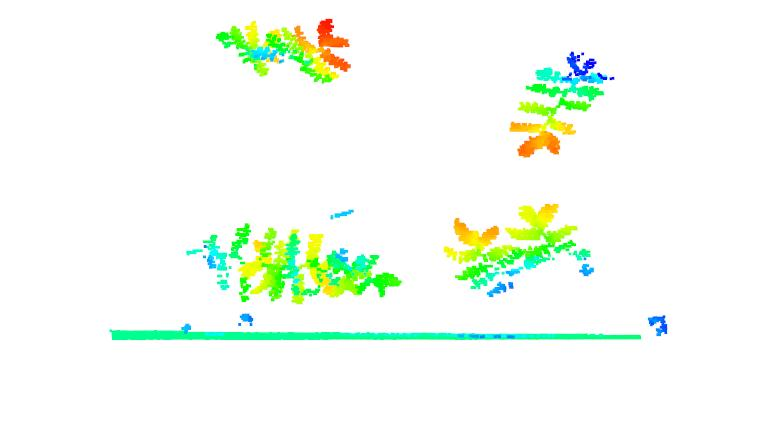chickpea: (232, 224, 401, 306), (508, 45, 621, 159), (178, 220, 303, 314), (440, 215, 525, 299), (511, 200, 599, 277), (213, 18, 287, 89), (284, 15, 354, 87)
